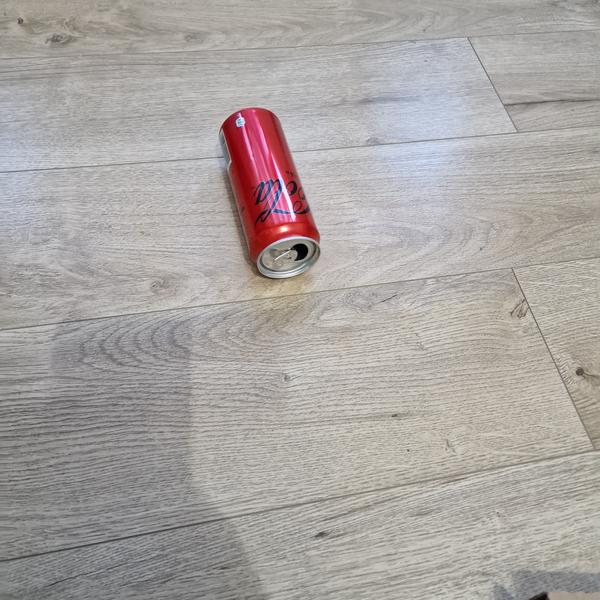can: (204, 98, 332, 289)
